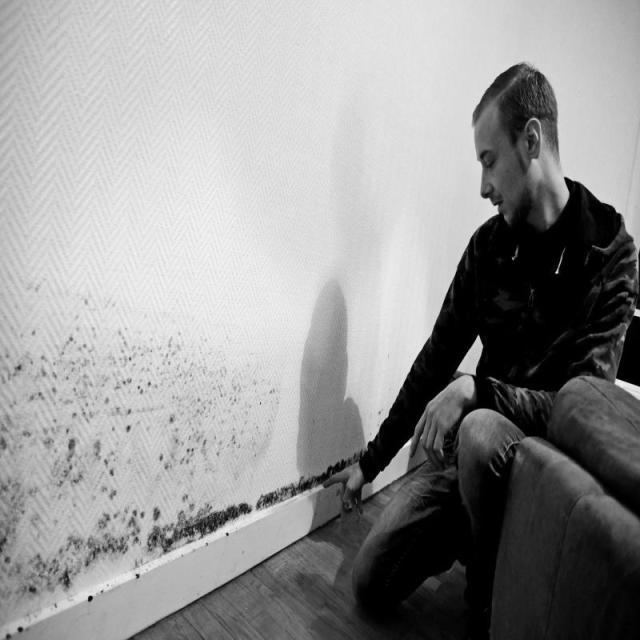stain marks: (0, 277, 382, 640)
